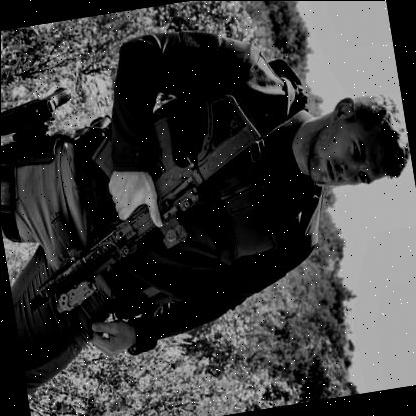rifle: (0, 82, 286, 317), (0, 80, 76, 139)
